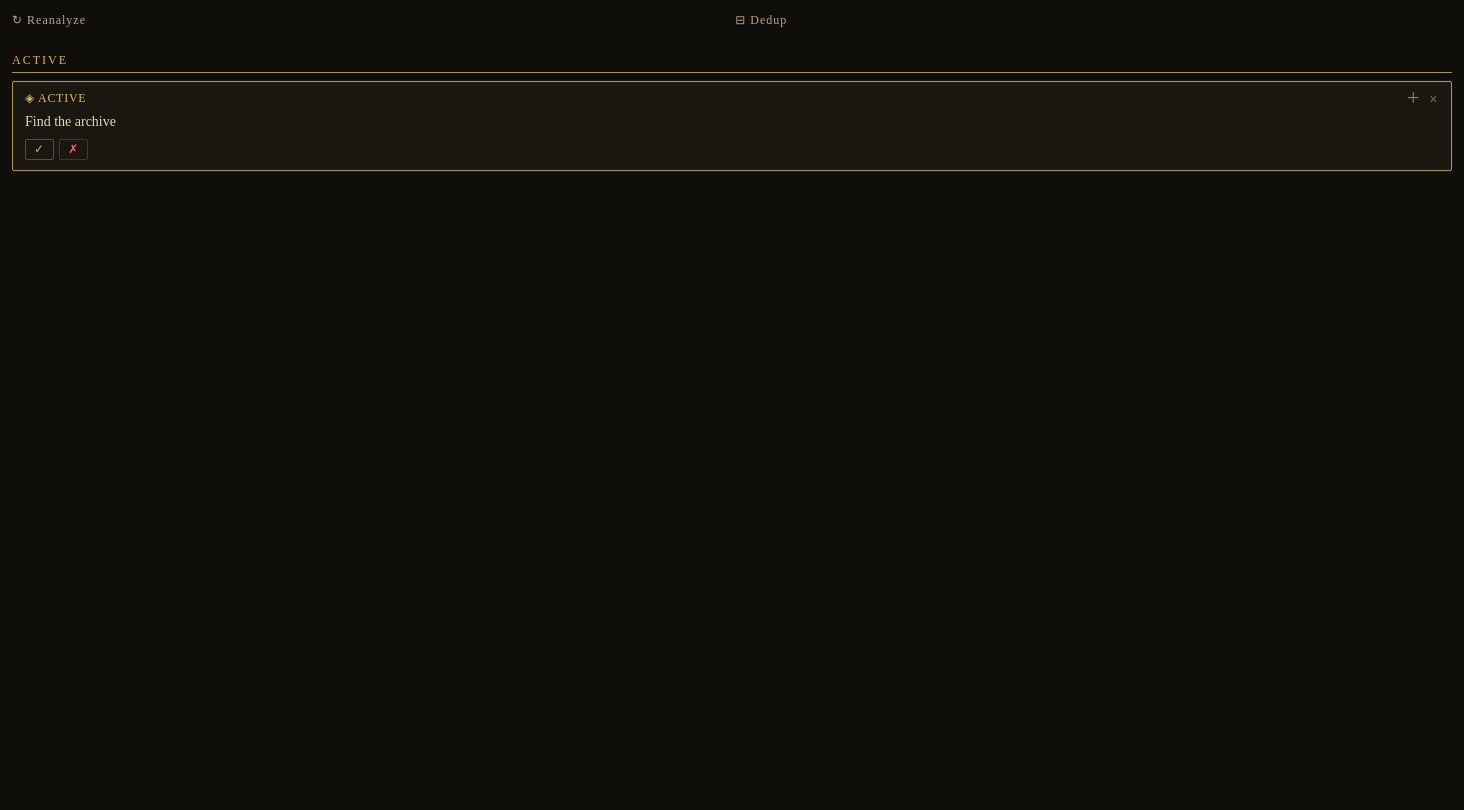
Scenario: user action failure feedback › announces a failed objective status change while preserving the objective state
The image size is (1464, 810).
Expected: the text "Find the archive" is shown, [25,114,116,129]
Click the button named "Mark completed" at (39, 150), box [25,139,54,160]
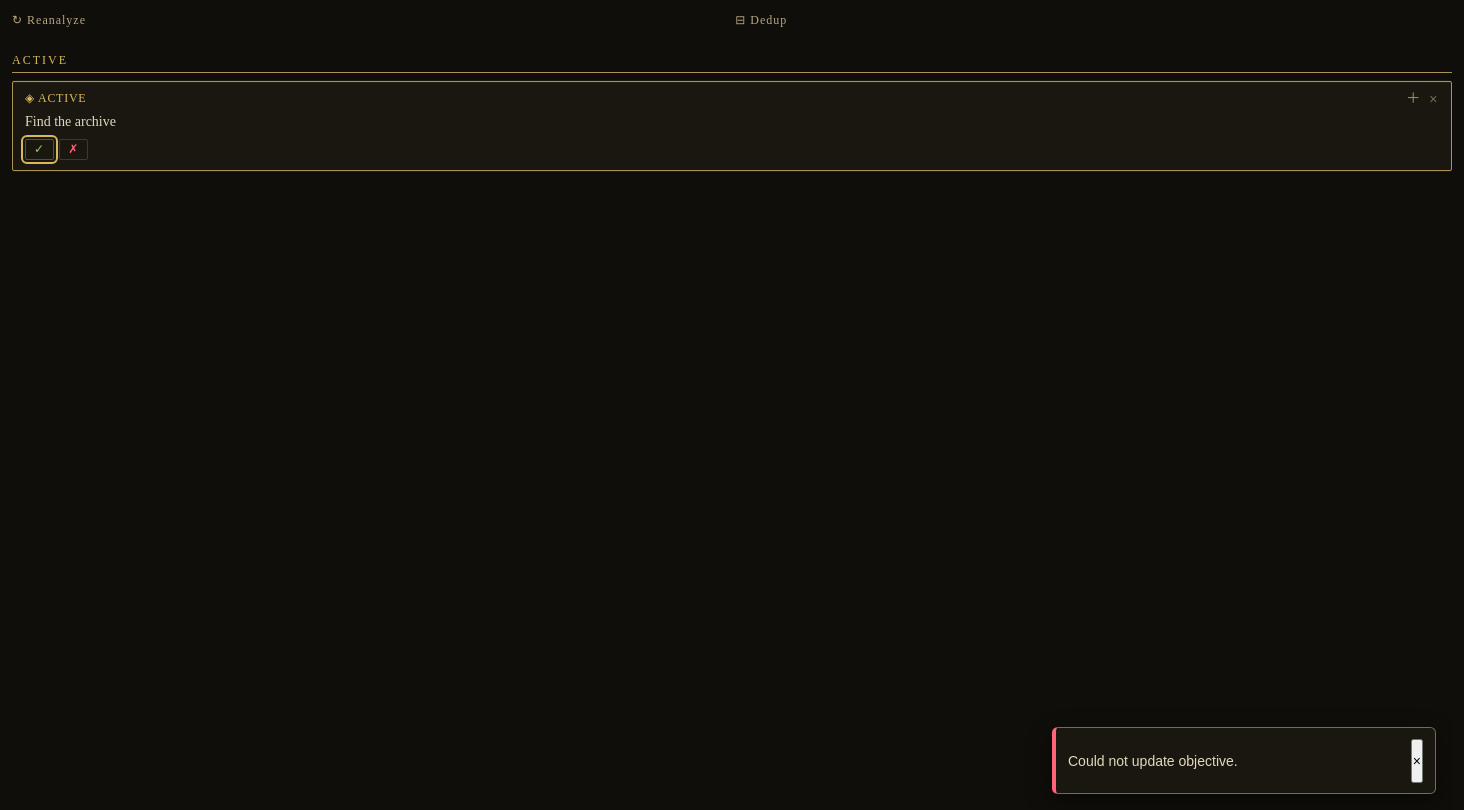
Expected: the text "◈ Active" is shown, [25,91,86,106]
Expected: the message shows "Could not update objective", [1068,753,1238,769]
